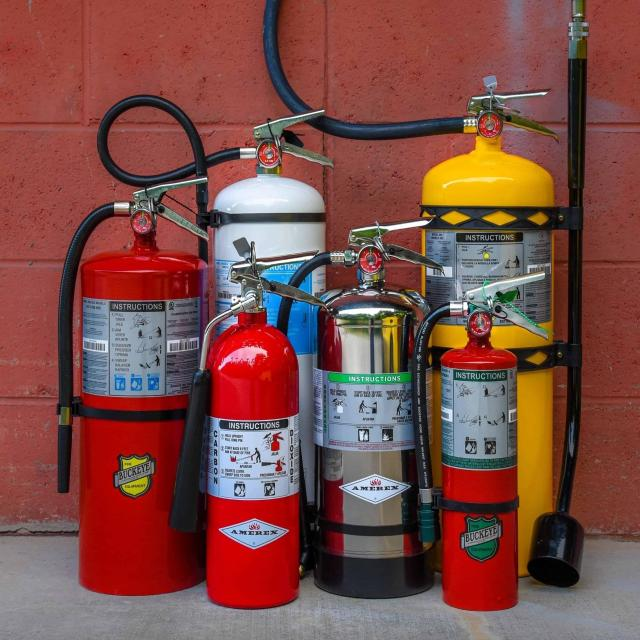fire_extinguisher: (256, 0, 596, 591), (94, 87, 340, 581), (52, 172, 216, 600), (270, 216, 446, 604), (162, 237, 330, 612), (408, 269, 552, 617)
